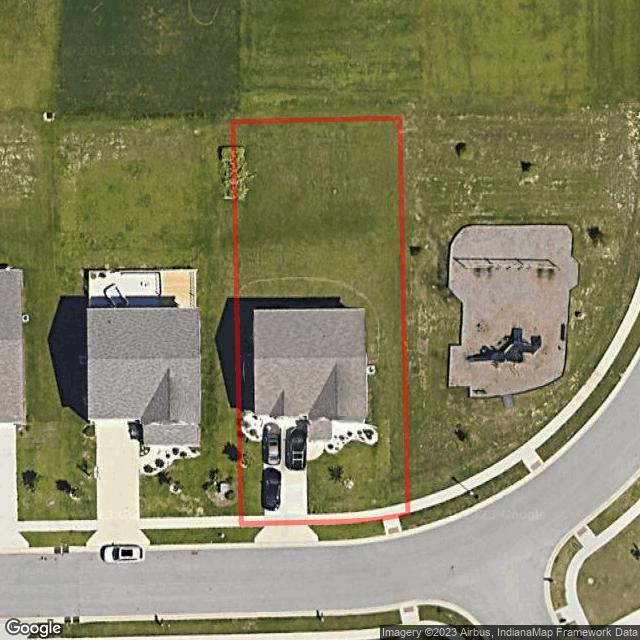Driveway: (264, 460, 308, 518)
Extra Driveway: (255, 525, 318, 544)
Extra Lawn: (311, 521, 384, 540), (242, 528, 258, 545), (401, 516, 415, 530)
Extra Sidewalk: (238, 504, 405, 525), (239, 529, 413, 548), (382, 518, 402, 534)
House: (254, 309, 364, 422)
Sidewalk: (306, 420, 378, 459), (242, 412, 305, 441)
